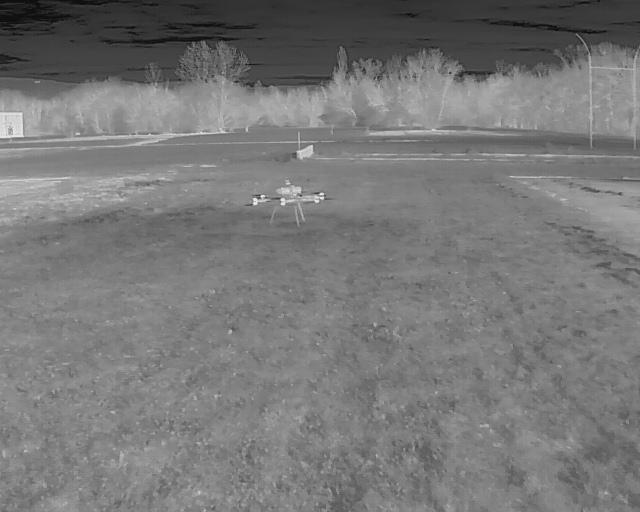drone: (246, 170, 332, 233)
